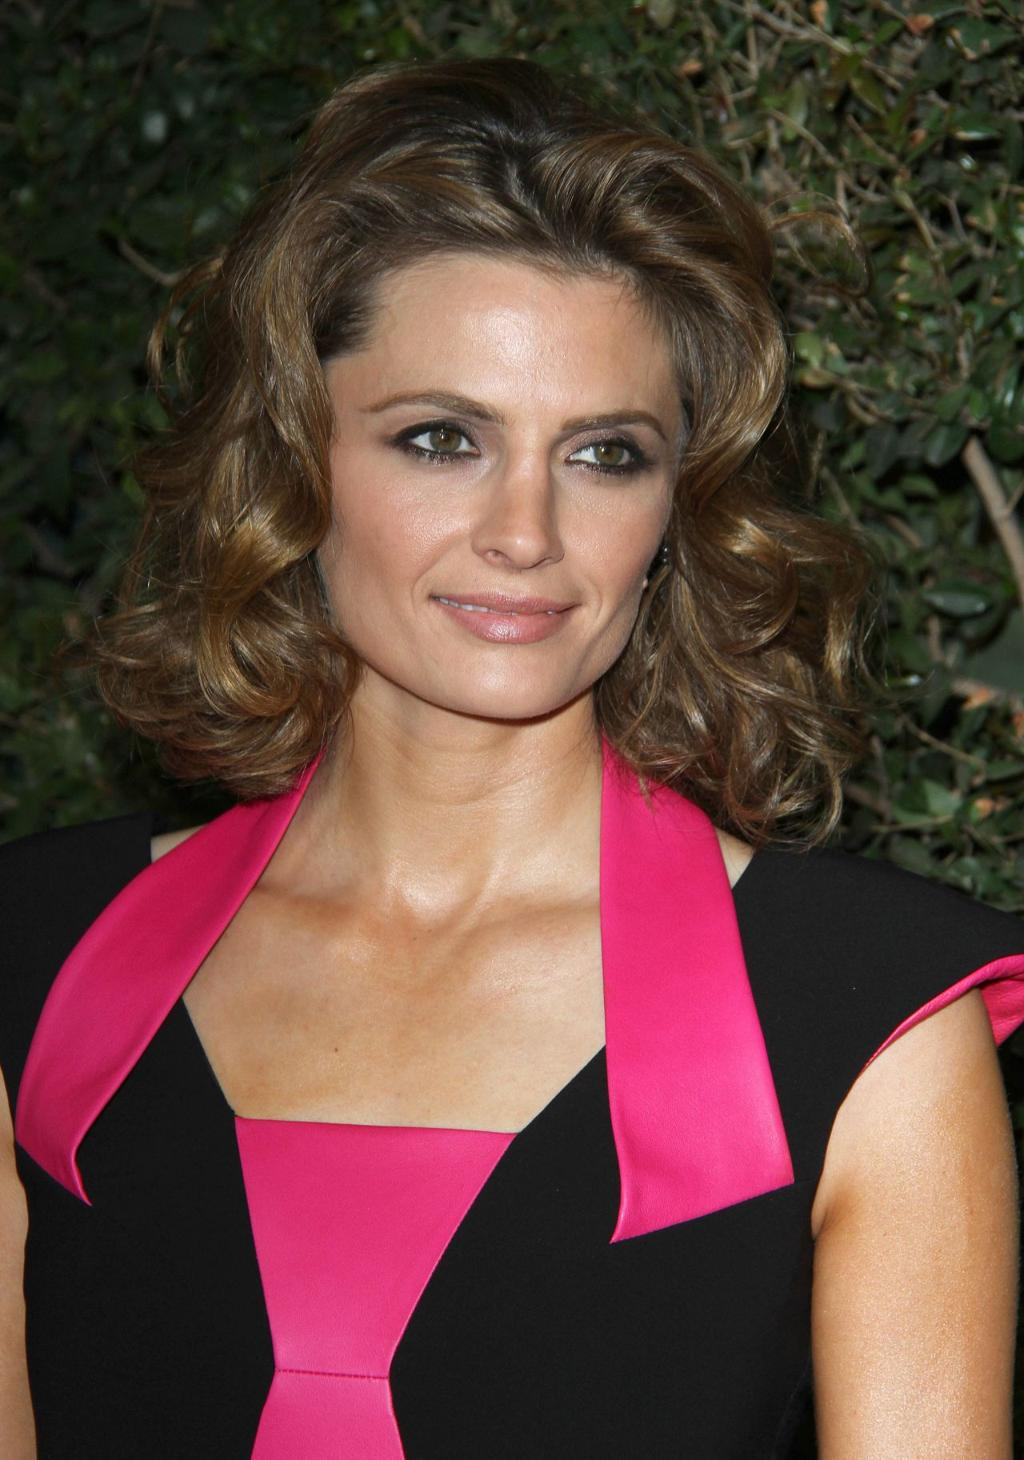face: (302, 220, 690, 719)
